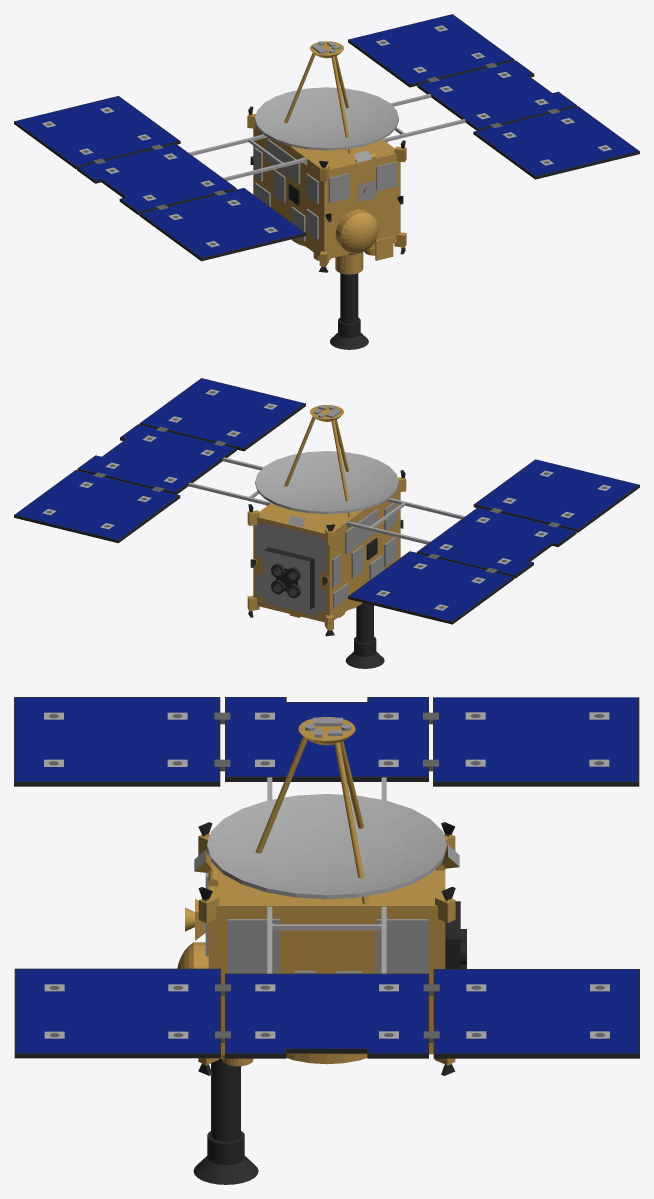
File: SeaGate.obj
3 renders of one model, top to bottom at view 1: azimuth 30°, elevation 25°; view 2: azimuth 150°, elevation 25°; view 3: azimuth 270°, elevation 25°, orthographic. The views are drawn at different scales.
Parts seen in each view (by area): view 1: G-__555825, Group#15, Group#15.003_Group#15, Group#15.002_Group#15, Group#15.001_Group#15, G-__555879, G-__555897, G-__555771, G-__555753, G-__555861, G-__555780, G-__555798 (+2 smaller); view 2: G-__555825, Group#15.001_Group#15, Group#15.002_Group#15, Group#15, Group#15.003_Group#15, G-__555744, G-__555879, G-__555897, G-__555753, G-__555861, G-__555798, G-__555870 (+2 smaller); view 3: G-__555825, Group#15.003_Group#15, Group#15.001_Group#15, Group#15.002_Group#15, Group#15, G-__555897, G-__555735, G-__555879, G-__555861, G-__555798, G-__555888, G-__555816 (+4 smaller).
Part boxes in pixels (bbox=[...]): G-__555825: bbox=[255, 87, 398, 150]; Group#15: bbox=[139, 188, 305, 261]; Group#15.003_Group#15: bbox=[473, 106, 639, 179]; Group#15.002_Group#15: bbox=[348, 14, 514, 87]; Group#15.001_Group#15: bbox=[14, 96, 180, 169]; G-__555879: bbox=[77, 143, 236, 214]; G-__555897: bbox=[417, 60, 576, 130]; G-__555771: bbox=[324, 153, 400, 260]; G-__555753: bbox=[253, 122, 324, 256]; G-__555861: bbox=[330, 252, 368, 349]; G-__555780: bbox=[335, 209, 378, 253]; G-__555798: bbox=[291, 139, 395, 169]; G-__555825: bbox=[255, 451, 398, 514]; Group#15.001_Group#15: bbox=[348, 551, 514, 624]; Group#15.002_Group#15: bbox=[14, 470, 180, 543]; Group#15: bbox=[473, 459, 639, 532]; Group#15.003_Group#15: bbox=[139, 378, 305, 451]; G-__555744: bbox=[253, 517, 329, 622]; G-__555879: bbox=[417, 507, 576, 578]; G-__555897: bbox=[77, 424, 236, 494]; G-__555753: bbox=[329, 486, 400, 619]; G-__555861: bbox=[345, 603, 384, 668]; G-__555798: bbox=[258, 503, 362, 533]; G-__555870: bbox=[347, 498, 464, 544]; G-__555825: bbox=[207, 794, 446, 899]; Group#15.003_Group#15: bbox=[14, 968, 220, 1058]; Group#15.001_Group#15: bbox=[433, 697, 639, 786]; Group#15.002_Group#15: bbox=[433, 969, 639, 1058]; Group#15: bbox=[14, 697, 220, 786]; G-__555897: bbox=[225, 973, 428, 1058]; G-__555735: bbox=[208, 906, 445, 1054]; G-__555879: bbox=[225, 697, 428, 781]; G-__555861: bbox=[193, 1054, 258, 1184]; G-__555798: bbox=[208, 854, 445, 905]; G-__555888: bbox=[267, 906, 386, 973]; G-__555816: bbox=[298, 717, 355, 745].
Bounding box in the file's own units: 5.71 × 3.36 × 4.23.
